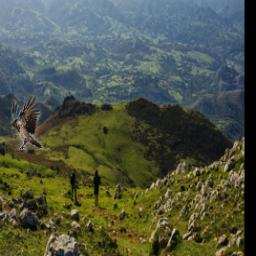Crow: (10, 94, 43, 150)
